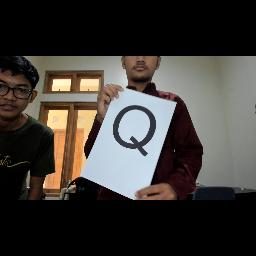q: (108, 101, 158, 167)
